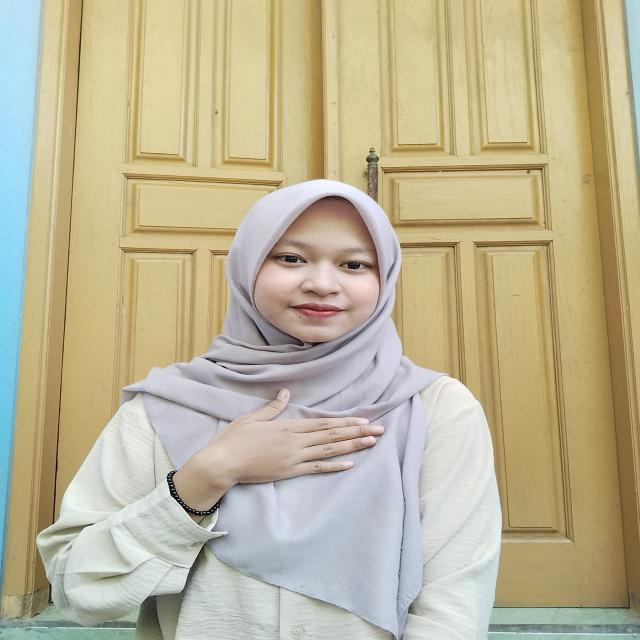tolong: (125, 386, 384, 501)
